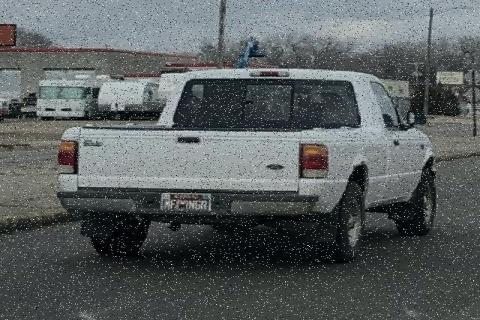LicensePlate: (157, 192, 212, 212)
